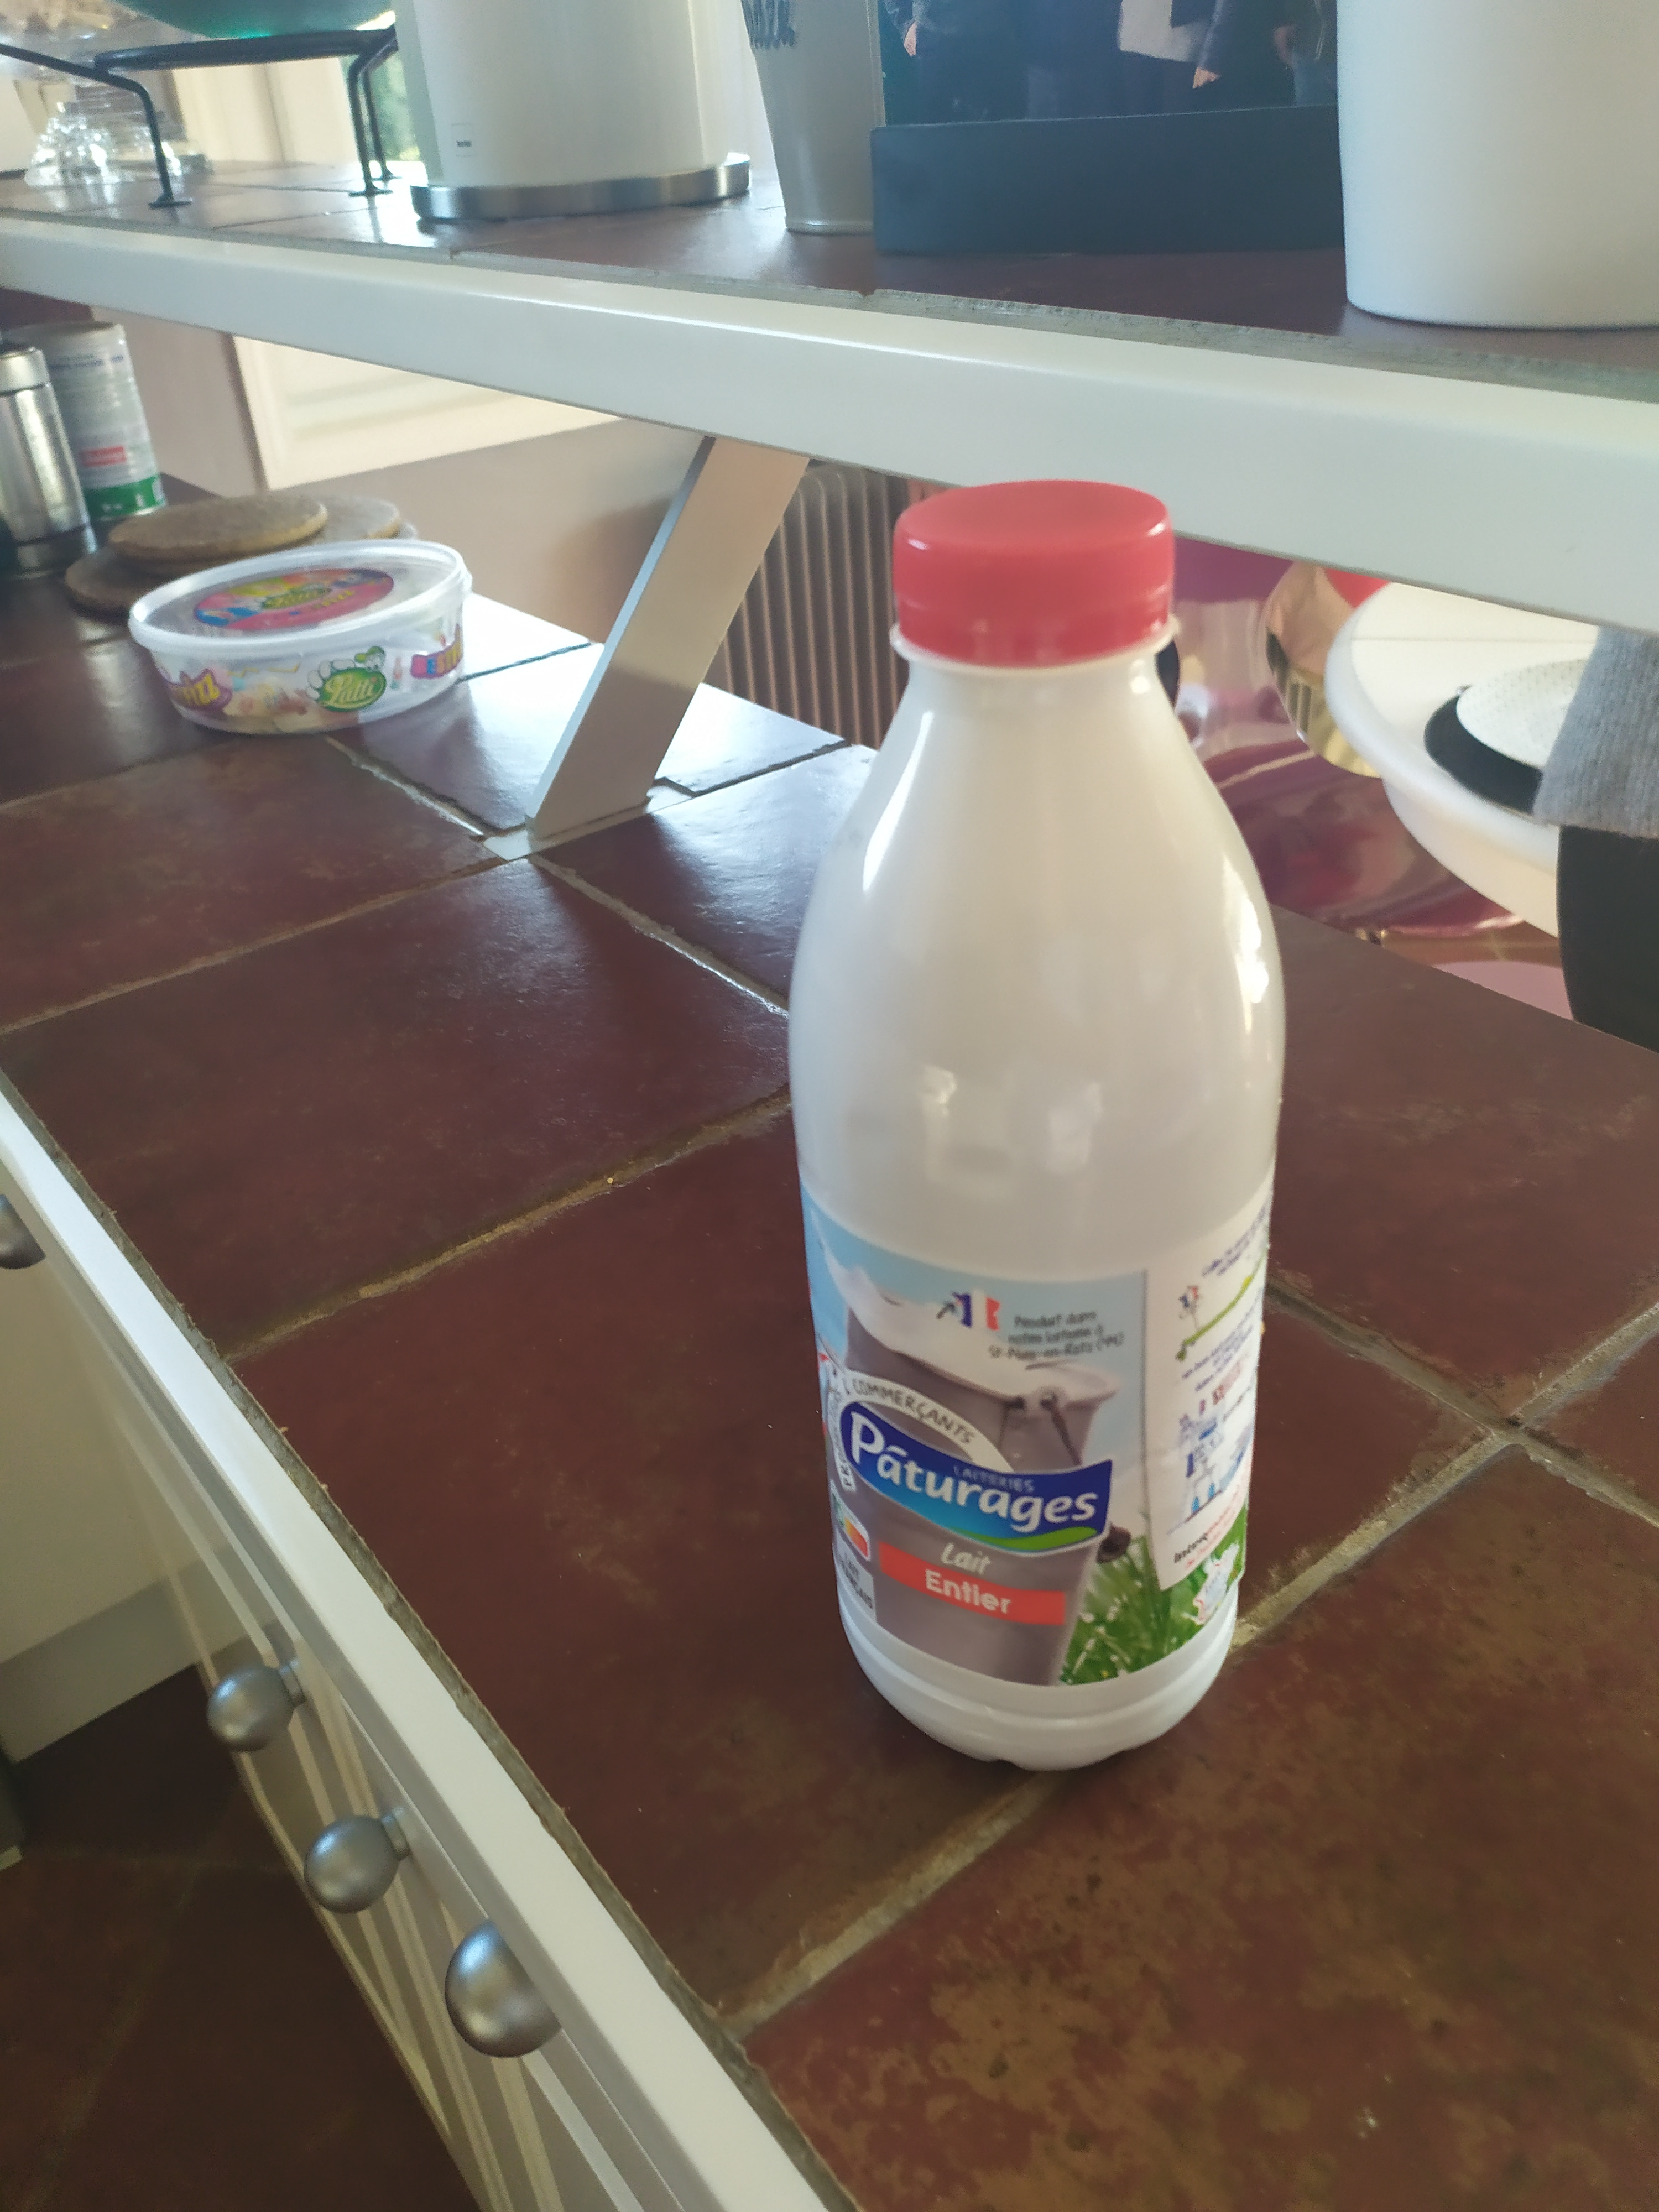bottle: (786, 479, 1297, 1770)
